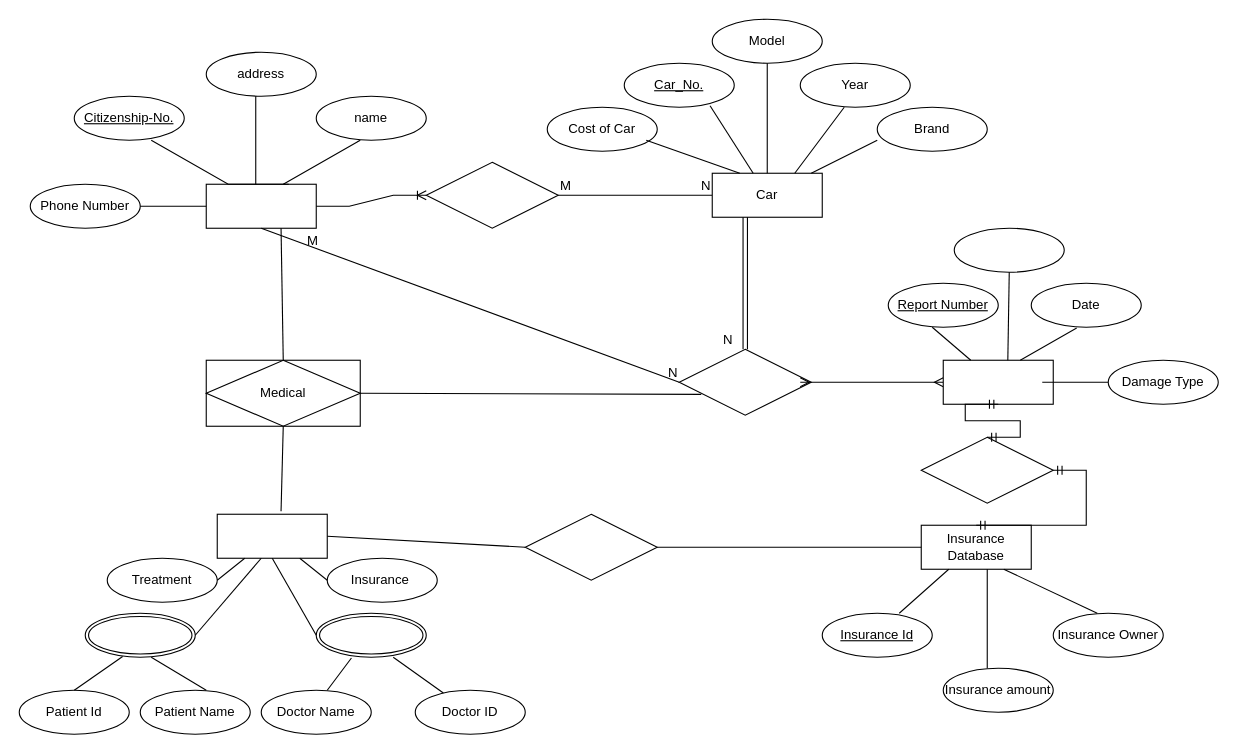
This 1238x754 diagram has some shape labels left out. The shapes that lost their labels are listed below. From the top down, each one's centre as x and y in pixels, then its label:
point 260,205: Person
point 491,194: Owns
point 1008,249: Location
point 744,381: Participated
point 997,381: Accident
point 986,469: Claim
point 271,535: Hospital
point 590,546: Personal Insurance
point 139,634: Patient Record
point 370,634: Associated Doctor
